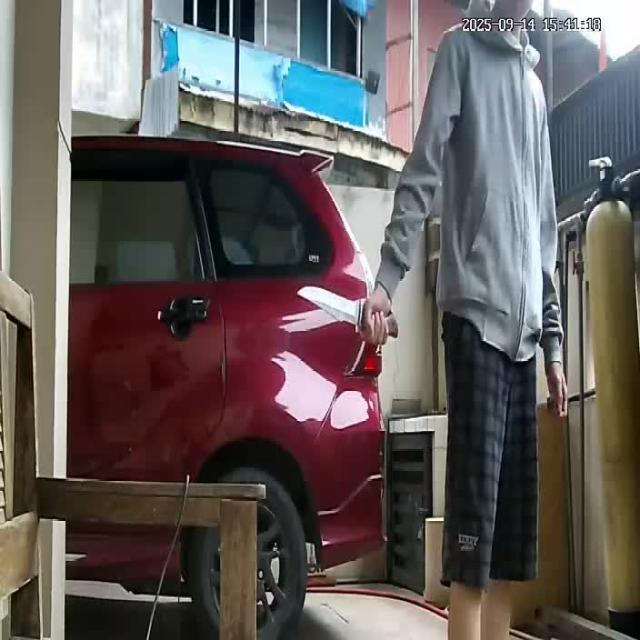senjata_tajam: (296, 284, 364, 330)
